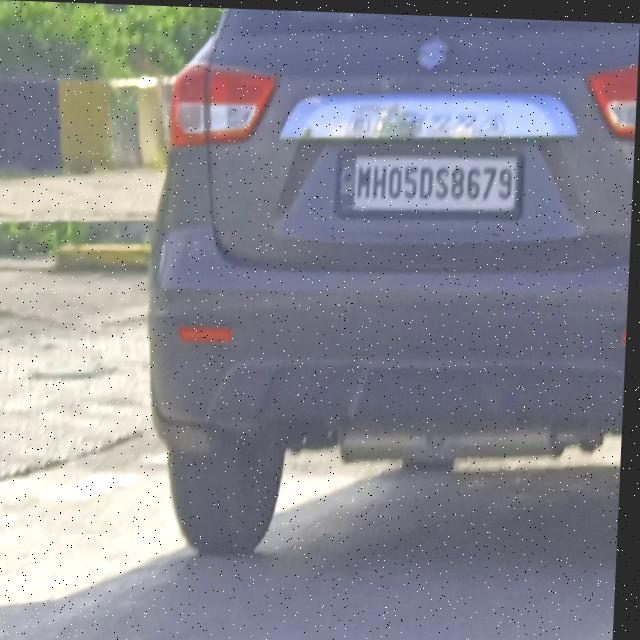plate: (334, 143, 529, 222)
